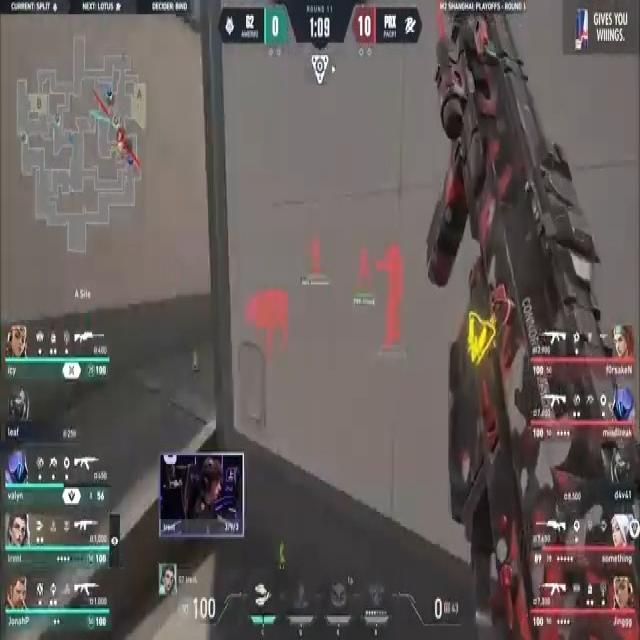enemy behind wall: (377, 243, 407, 360)
